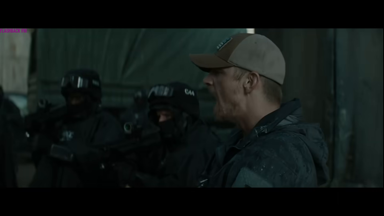firearm: (119, 116, 147, 142), (32, 95, 53, 117)
